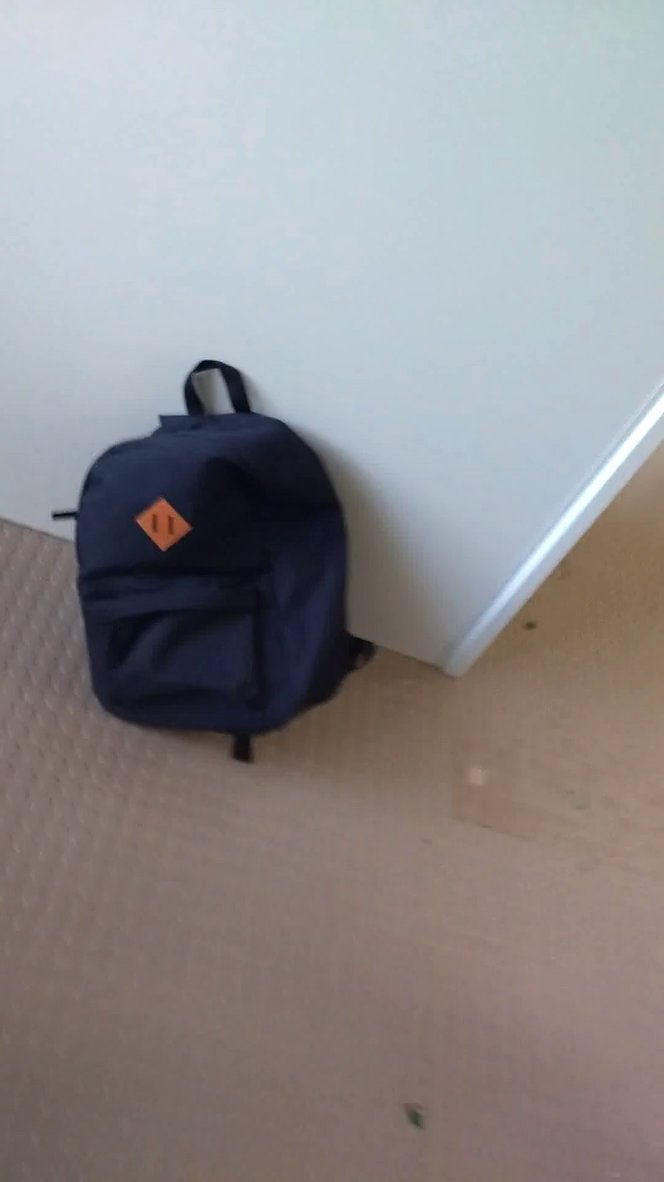bag: (44, 350, 393, 774)
